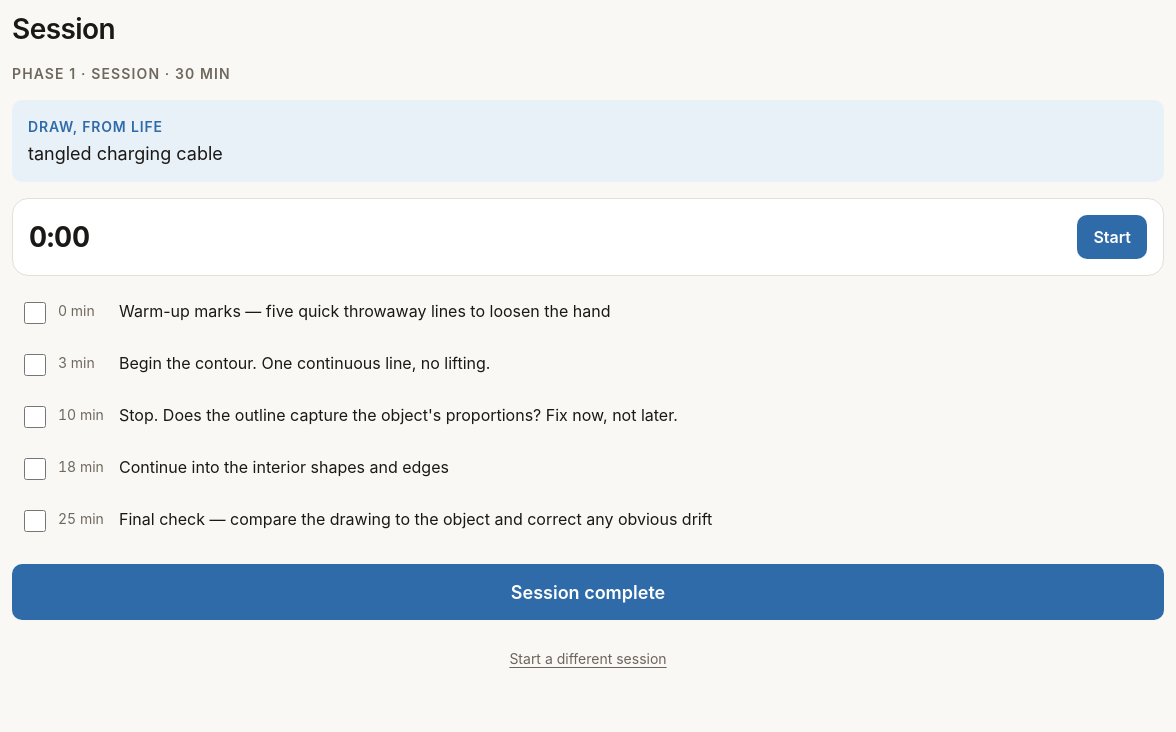
Test: the session runner › "Start a different session" discards the active session without logging anything
The image size is (1176, 732).
Step 1. Click the button "Start a different session" → (588, 658), box [497,636,679,680]
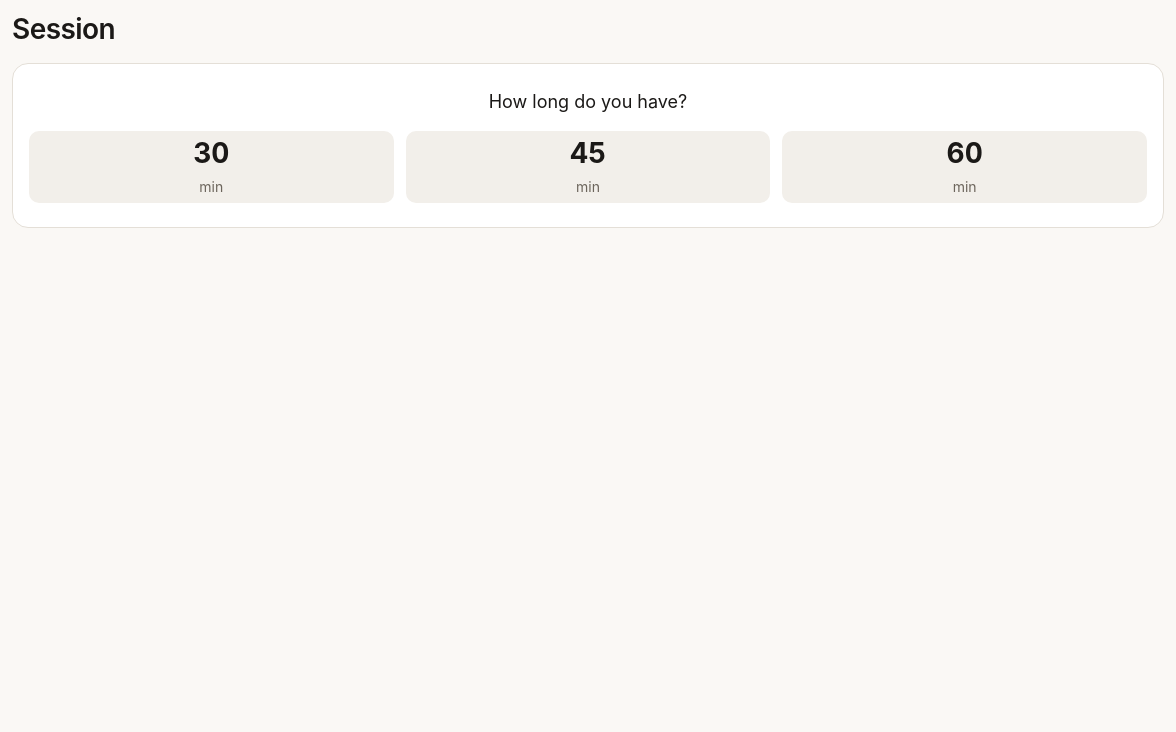
Now the text "How long do you have?" is shown, box [489,91,687,112]
